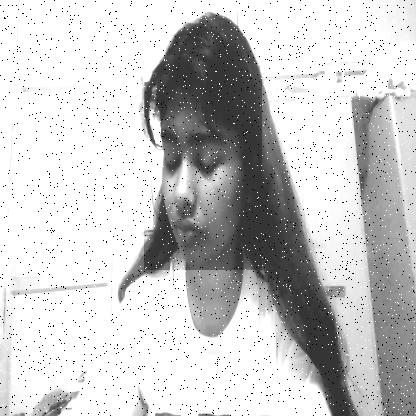Distracted: (144, 11, 262, 270)
